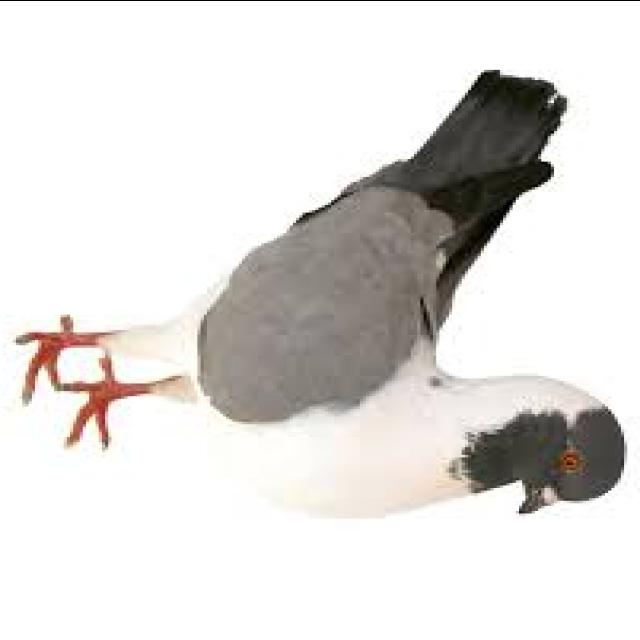pigeon: (24, 66, 640, 545)
